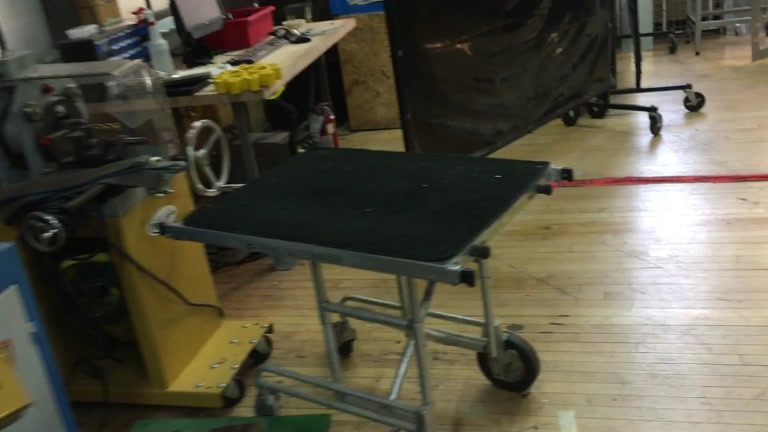gear: (213, 60, 282, 95)
